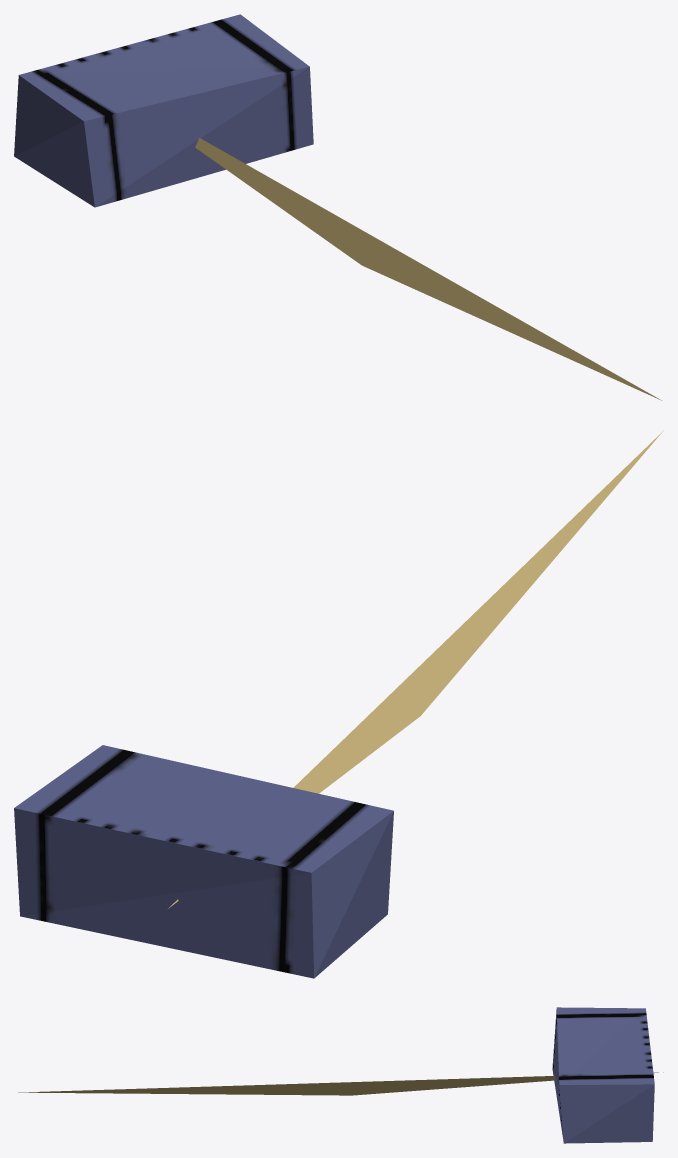
File: Molot_lod2.fbx
3 renders of one model, top to bottom at view 1: azimuth 30°, elevation 25°; view 2: azimuth 150°, elevation 25°; view 3: azimuth 270°, elevation 25°, orthographic. The views are drawn at different scales.
Visible parts, largest first — view 1: Цилиндр.002; view 2: Цилиндр.002; view 3: Цилиндр.002.
Boxes of the visible parts, x1=… form: Цилиндр.002: x1=14, y1=14, x2=662, y2=400; Цилиндр.002: x1=14, y1=430, x2=663, y2=978; Цилиндр.002: x1=18, y1=1007, x2=663, y2=1143.
Size of the model in its own units: 14.59 by 50.31 by 5.07.
